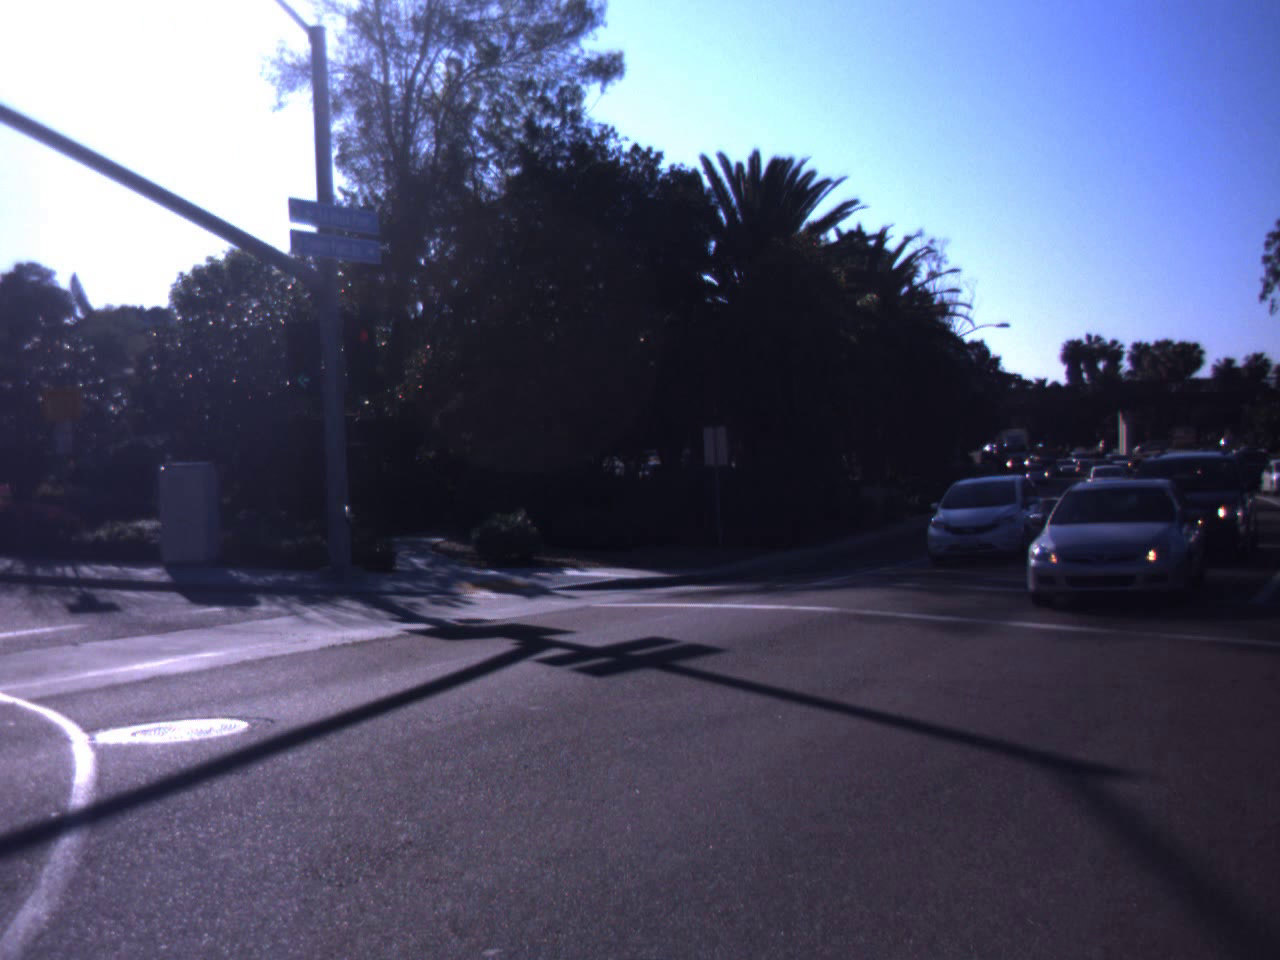go: (280, 315, 328, 395)
